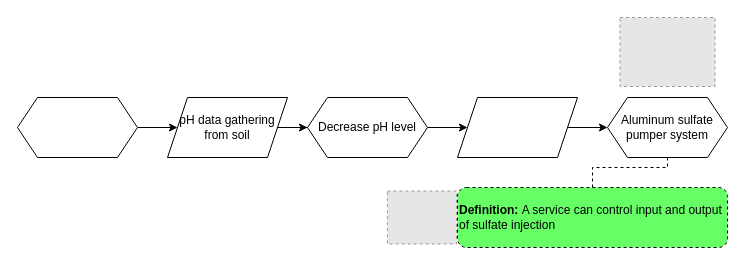
The diagram is 745 pixels wide and 265 high, and some of its shapes have lost their labels. Grey dashed boxes stand in for pictures. Here are the shapes that lost their labels. From the top down, the centre of each, then its label:
At (77,127): "pH level checker".
At (517,127): "Using Aluminum sulfate".
